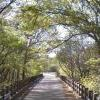Tree: (8, 0, 100, 68)
